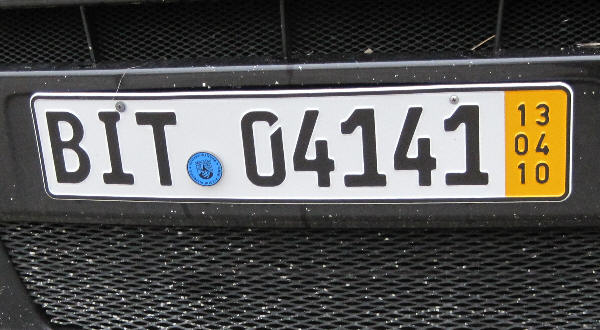license_plate: (30, 82, 572, 205)
